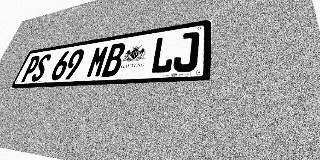6: (49, 50, 73, 80)
9: (62, 48, 86, 80)
B: (101, 42, 127, 77)
J: (172, 31, 200, 73)
L: (149, 35, 176, 74)
M: (85, 45, 110, 78)
P: (20, 55, 42, 82)
S: (30, 54, 52, 82)
